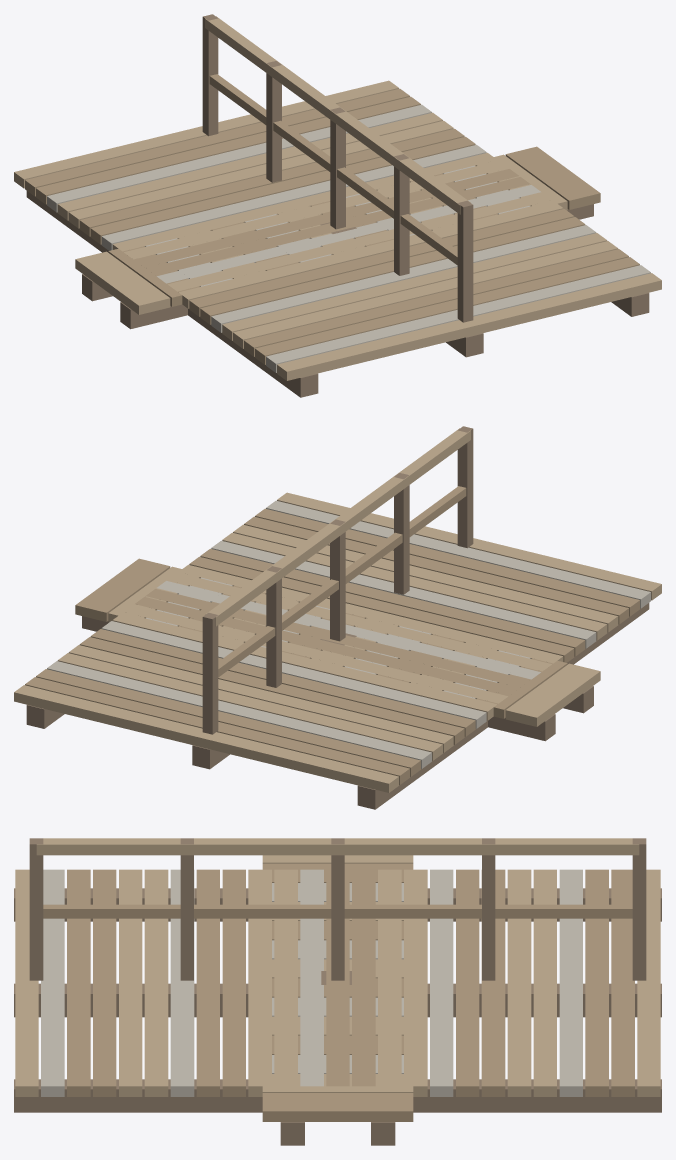
Rendered from trailer_walk.glb.
The picture shows the model from 3 angles, top to bottom: view 1: azimuth 30°, elevation 25°; view 2: azimuth 150°, elevation 25°; view 3: azimuth 270°, elevation 25°; orthographic projection. The views are drawn at different scales.
Visible parts, largest first — view 1: tw_walk_mesh, tw_rail_mesh, tw_platform_mesh; view 2: tw_walk_mesh, tw_rail_mesh, tw_platform_mesh; view 3: tw_walk_mesh, tw_rail_mesh, tw_platform_mesh.
Boxes of the visible parts, left/top/right/bottom form: tw_walk_mesh: left=14, top=80, right=661, bottom=397; tw_rail_mesh: left=202, top=14, right=473, bottom=322; tw_platform_mesh: left=75, top=146, right=600, bottom=329; tw_walk_mesh: left=14, top=492, right=661, bottom=809; tw_rail_mesh: left=202, top=426, right=473, bottom=734; tw_platform_mesh: left=75, top=558, right=600, bottom=741; tw_walk_mesh: left=14, top=869, right=661, bottom=1112; tw_rail_mesh: left=29, top=838, right=646, bottom=980; tw_platform_mesh: left=262, top=855, right=413, bottom=1145.
Bounding box in the file's own units: 4.2 × 2 × 4.3.
